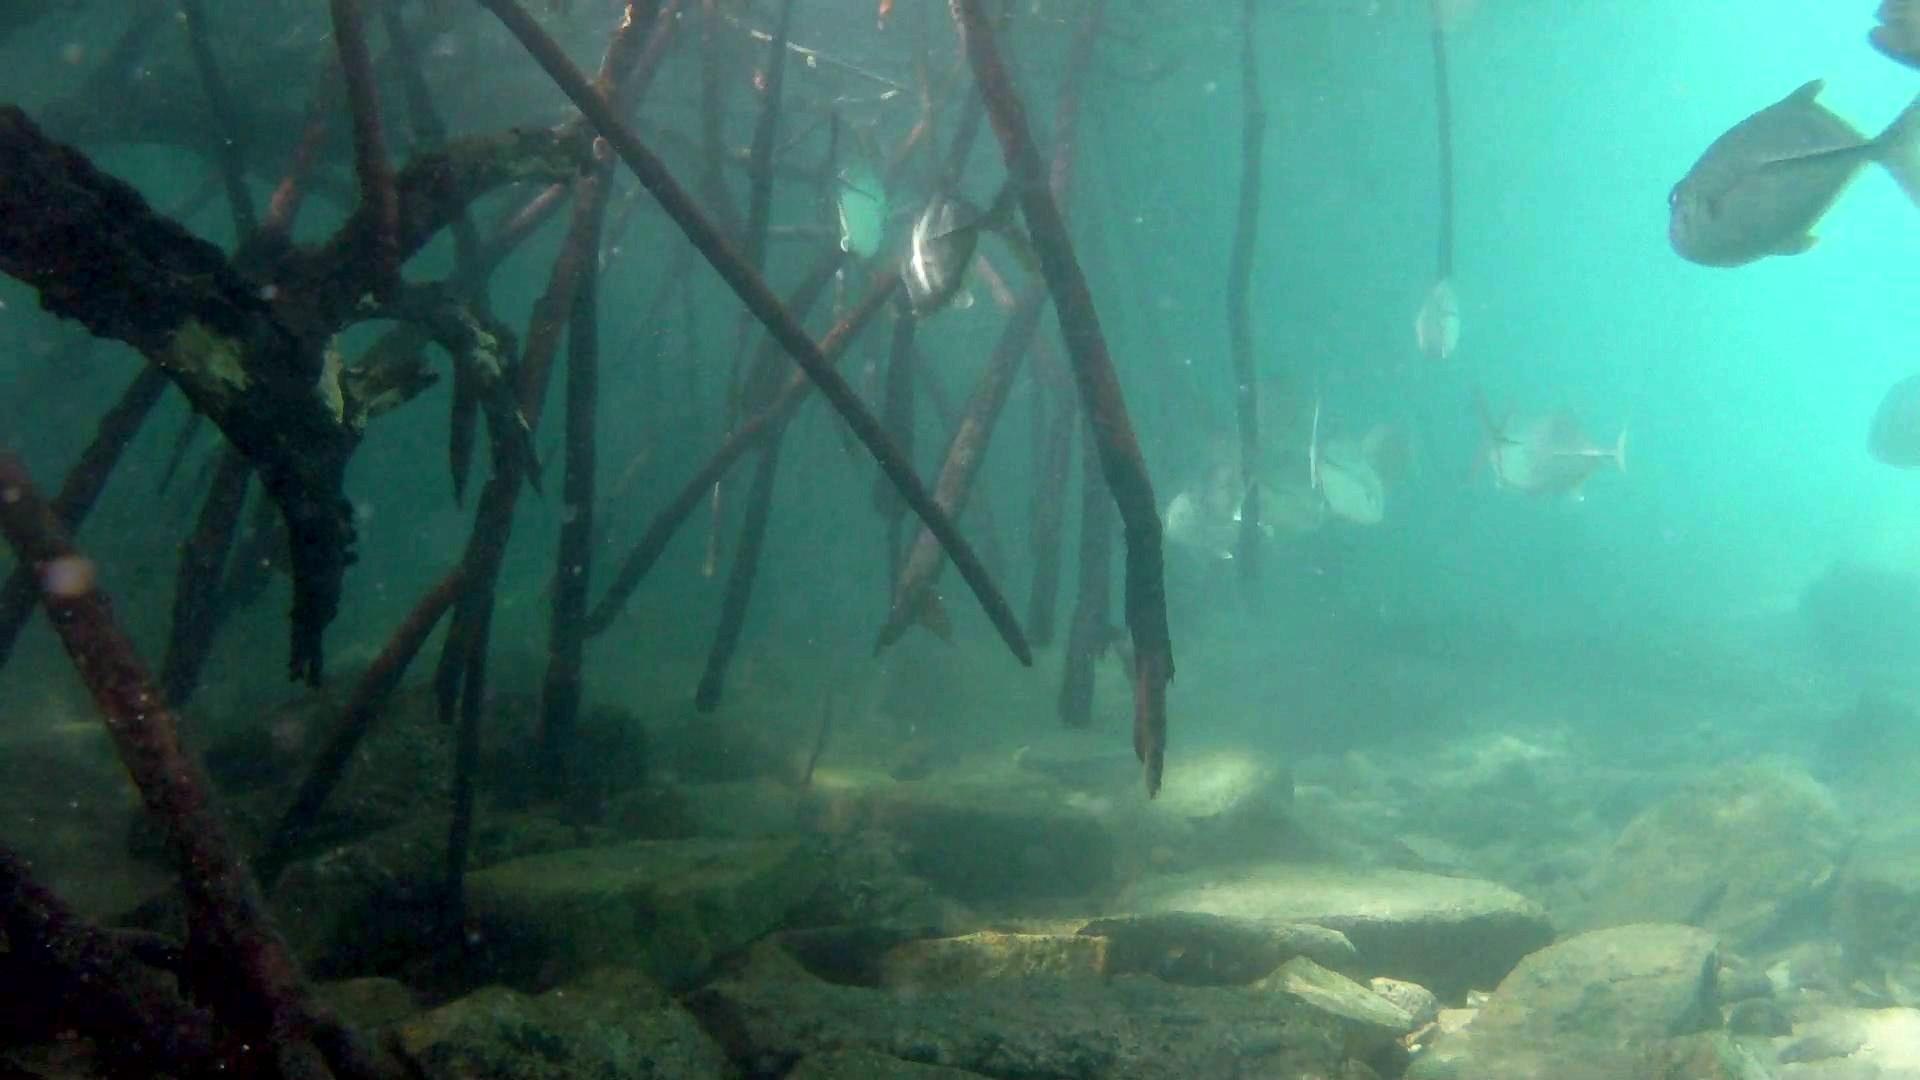caranx: (1655, 66, 1920, 269), (895, 138, 1042, 315)
